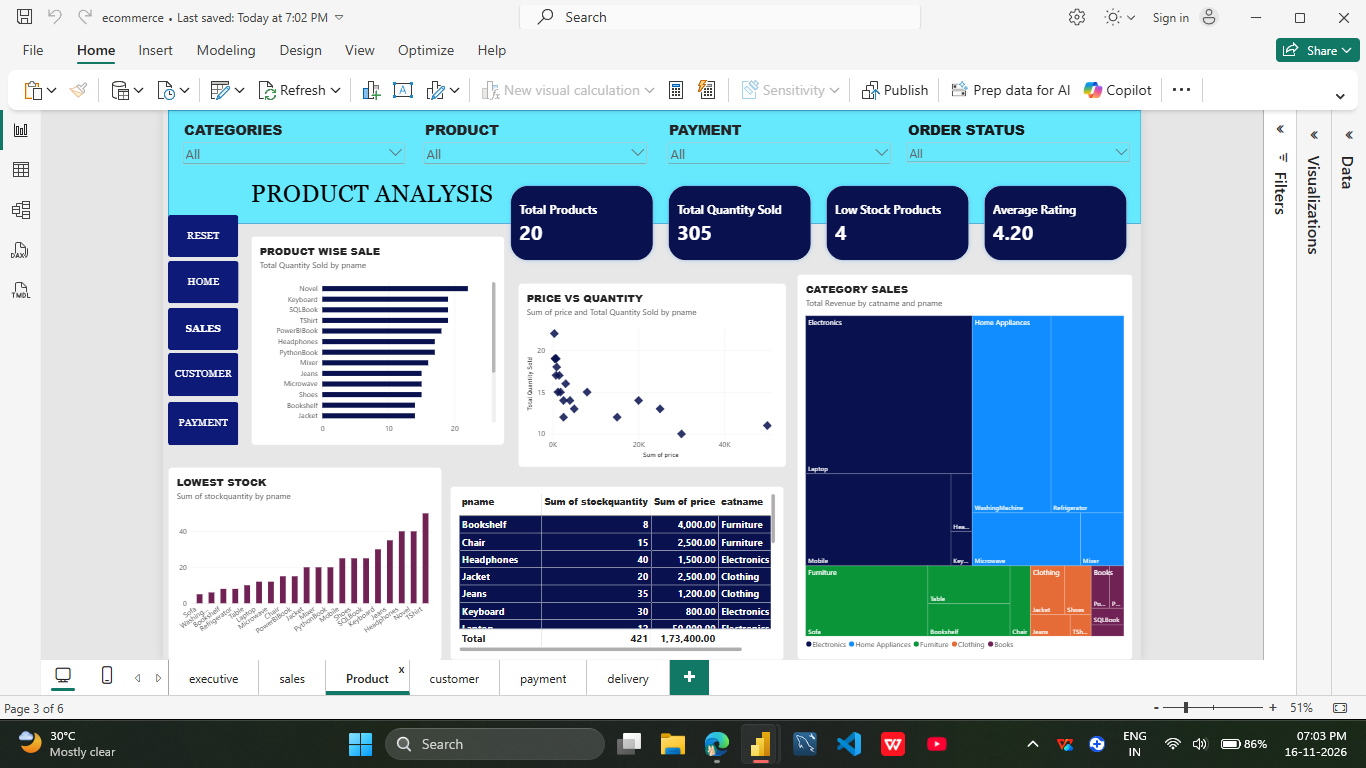

The dashboard page shown, as its layout file describes it:
{"tool":"powerbi","page":{"name":"Product","canvas":[1920,1080],"ordinal":2},"visuals":[{"type":"shape","box":[8.9,0,1911.1,223.3],"z":500,"group":"g1"},{"type":"cardVisual","fields":{"Data":["ecom product.Total Products","ecom orderdetails.Total Quantity Sold","ecom product.Low Stock Products","ecom product.Average Rating"]},"box":[669.7,138.4,1234.6,169.7],"z":1000,"group":"g1"},{"type":"group","id":"g1","title":"Group 1","box":[8.9,0,1911.1,308.1],"z":1500},{"type":"actionButton","box":[8.9,296.9,138.7,83.2],"z":2000},{"type":"clusteredBarChart","title":"PRODUCT WISE SALE","fields":{"Category":["ecom product.pname"],"Y":["ecom orderdetails.Total Quantity Sold"]},"box":[172.1,247.4,497.9,410.8],"z":3000},{"type":"actionButton","box":[8.9,477.8,138.4,84.8],"z":3000},{"type":"slicer","fields":{"Values":["ecom category.catname"]},"box":[33.3,19.4,446.7,99.9],"z":4000,"group":"g1"},{"type":"slicer","fields":{"Values":["ecom product.pname"]},"box":[505.5,18.8,449.1,99.5],"z":5000,"group":"g1"},{"type":"slicer","fields":{"Values":["ecom payment.payment_status"]},"box":[984.2,18.8,449.1,86.1],"z":6000,"group":"g1"},{"type":"slicer","title":"ORDER STATUS","fields":{"Values":["ecom orderss.ordstatus"]},"box":[1454.8,18.8,449.1,118.3],"z":7000,"group":"g1"},{"type":"treemap","title":"CATEGORY SALES","fields":{"Details":["ecom product.pname"],"Group":["ecom category.catname"],"Values":["ecom orderdetails.Total Revenue"]},"box":[1245,322.7,658.8,758.3],"z":8000},{"type":"scatterChart","title":"PRICE VS QUANTITY","fields":{"Category":["ecom product.pname"],"X":["Sum(ecom product.price)"],"Y":["ecom orderdetails.Total Quantity Sold"]},"box":[696.6,339.3,526.9,361.7],"z":9000},{"type":"tableEx","fields":{"Values":["ecom product.pname","Sum(ecom product.stockquantity)","Sum(ecom product.price)","ecom category.catname"]},"box":[562.6,739,656,342],"z":10000},{"type":"clusteredColumnChart","title":"LOWEST STOCK","fields":{"Category":["ecom product.pname"],"Y":["Sum(ecom product.stockquantity)"]},"box":[8.9,701,538,379.5],"z":11000},{"type":"actionButton","box":[8.9,388.5,138.4,82.6],"z":11001},{"type":"actionButton","box":[8.9,205.4,138.4,82.6],"z":11002},{"type":"textbox","box":[171.9,138.4,497.9,67],"z":11003},{"type":"actionButton","box":[8.9,573.8,138.4,84.8],"z":11004}]}

Visuals, with their boxes on the page's 1920x1080 design canvas (x1, y1, x2, y2). These are canvas units, not pixel positions in the 1366x768 screenshot, which may show the page scaled, cropped or inside an application window:
shape: 9/0/1920/223
cardVisual - ecom product.Total Products x ecom orderdetails.Total Quantity Sold: 670/138/1904/308
"Group 1" group: 9/0/1920/308
actionButton: 9/297/148/380
"PRODUCT WISE SALE" clusteredBarChart: 172/247/670/658
actionButton: 9/478/147/563
slicer - ecom category.catname: 33/19/480/119
slicer - ecom product.pname: 506/19/955/118
slicer - ecom payment.payment_status: 984/19/1433/105
"ORDER STATUS" slicer: 1455/19/1904/137
"CATEGORY SALES" treemap: 1245/323/1904/1081
"PRICE VS QUANTITY" scatterChart: 697/339/1224/701
tableEx - ecom product.pname x Sum(ecom product.stockquantity): 563/739/1219/1081
"LOWEST STOCK" clusteredColumnChart: 9/701/547/1080
actionButton: 9/388/147/471
actionButton: 9/205/147/288
textbox: 172/138/670/205
actionButton: 9/574/147/659
